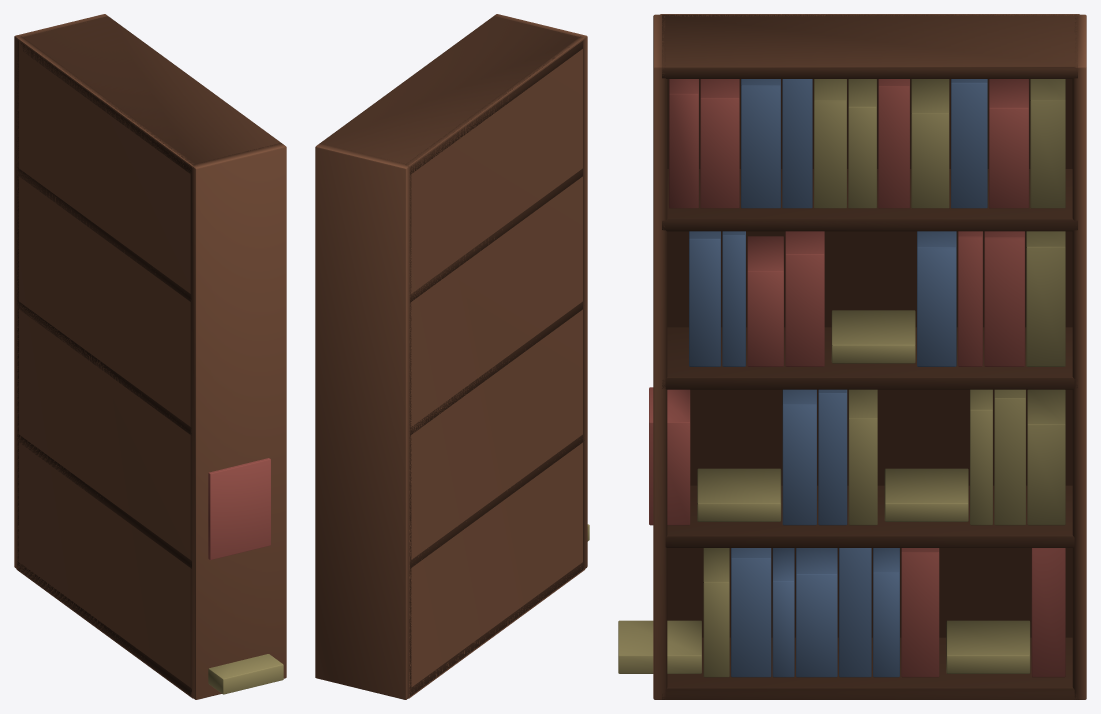
The model's file is bookshelf.glb.
3 renders of one model, left to right at view 1: azimuth 30°, elevation 25°; view 2: azimuth 150°, elevation 25°; view 3: azimuth 270°, elevation 25°, orthographic. The views are drawn at different scales.
Parts seen in each view (by area): view 1: boat_mahog, boat_book1, boat_book3; view 2: boat_mahog; view 3: boat_mahog, boat_book3, boat_book2, boat_book1.
Part boxes in pixels (<box>): boat_mahog: <box>14,14,286,699</box>; boat_book1: <box>208,458,270,560</box>; boat_book3: <box>208,654,283,694</box>; boat_mahog: <box>315,14,587,699</box>; boat_mahog: <box>653,14,1086,699</box>; boat_book3: <box>618,79,1065,677</box>; boat_book2: <box>689,79,987,677</box>; boat_book1: <box>649,79,1065,677</box>.
Bounding box in the file's own units: 0.36 × 2 × 1.34.
